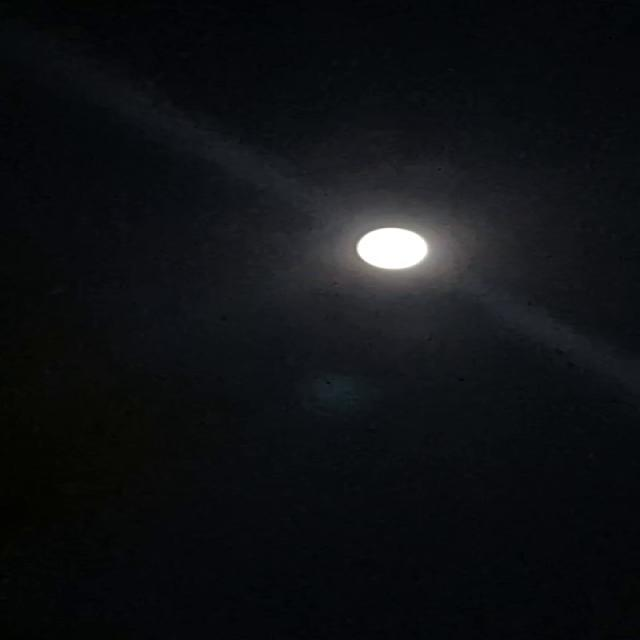moon: (340, 218, 456, 276)
